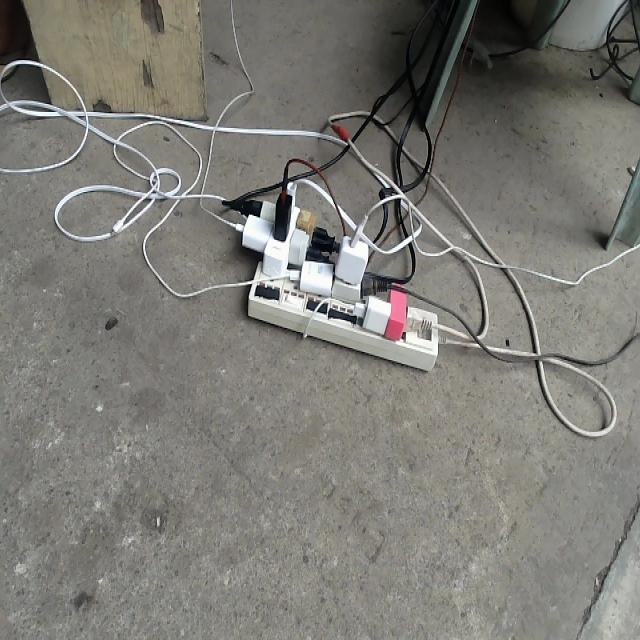-: (236, 180, 442, 375)
